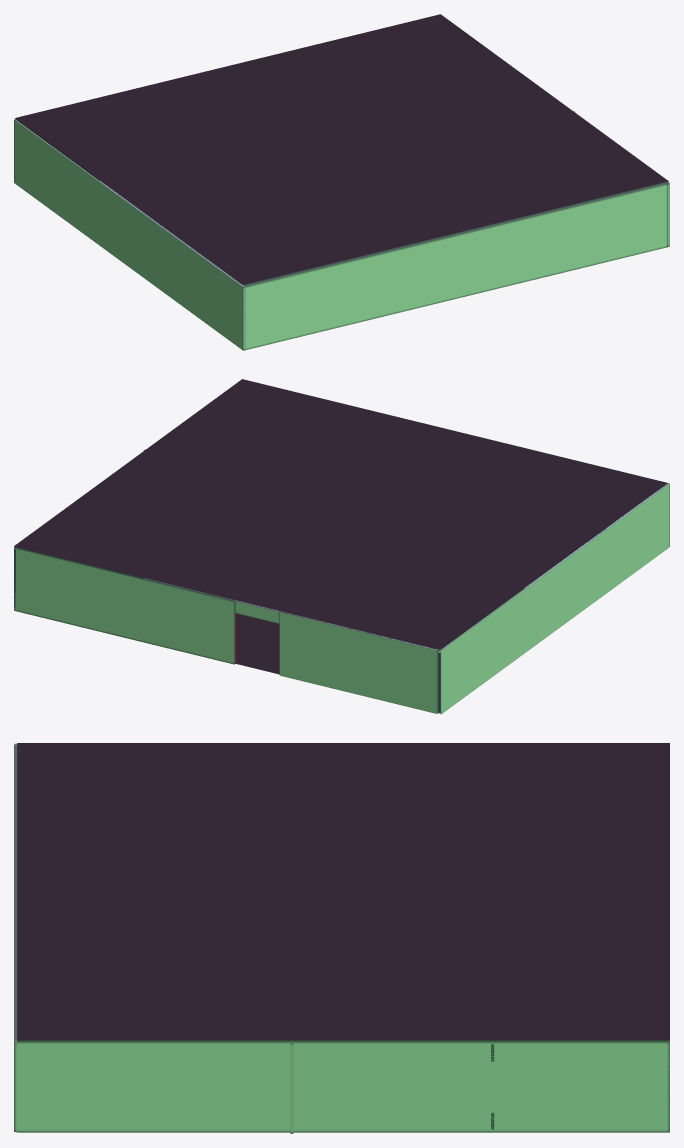
File: ward.obj
3 renders of one model, top to bottom at view 1: azimuth 30°, elevation 25°; view 2: azimuth 150°, elevation 25°; view 3: azimuth 270°, elevation 25°, orthographic. The views are drawn at different scales.
Visible parts, largest first — view 1: mesh; view 2: mesh; view 3: mesh.
Part boxes in pixels (<box>): mesh: <box>14,14,669,350</box>; mesh: <box>14,379,669,714</box>; mesh: <box>14,743,669,1133</box>.
Size of the model in its own units: 28.19 by 4.06 by 26.12.
Materials: 1 (1 with a texture image).
